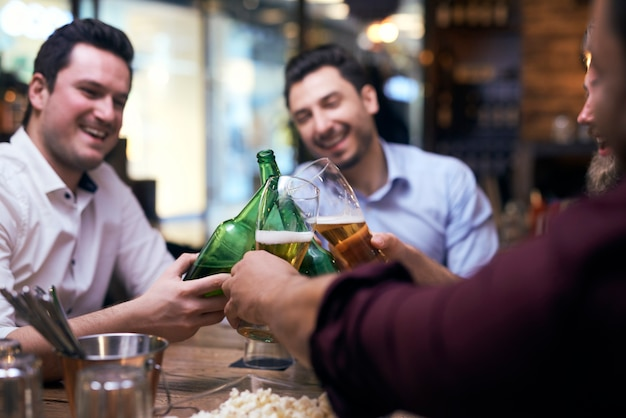alcohol: (238, 175, 327, 345), (179, 171, 282, 316), (284, 158, 399, 278), (255, 149, 342, 280)
